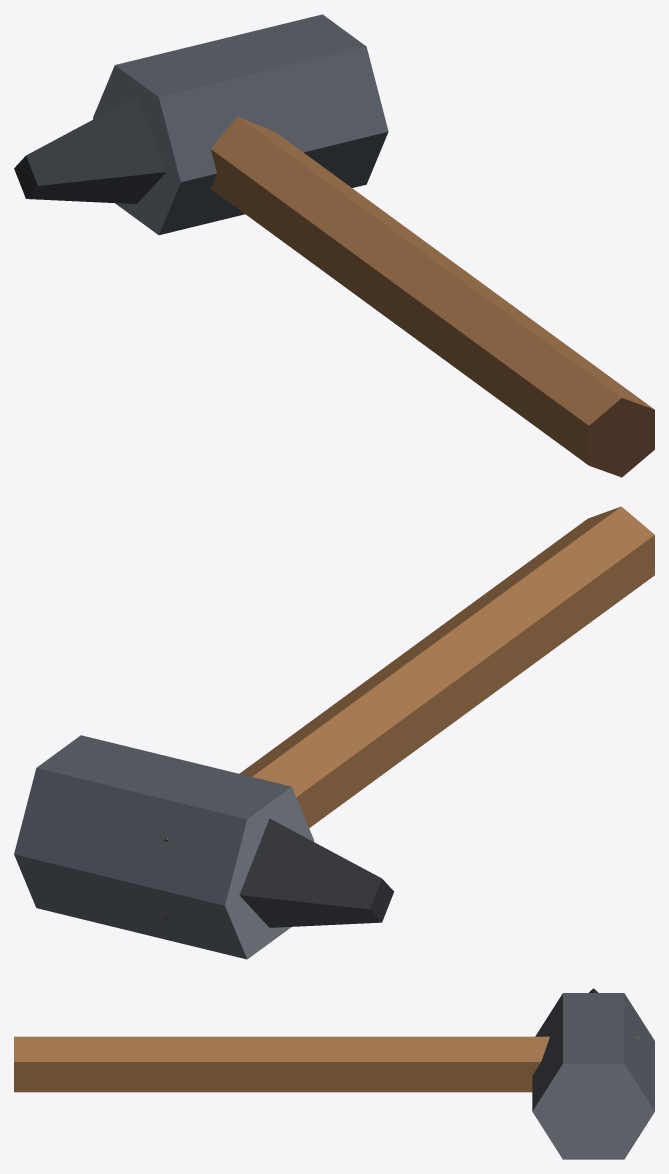
Rendered from prop_hammer.glb.
3 renders of one model, top to bottom at view 1: azimuth 30°, elevation 25°; view 2: azimuth 150°, elevation 25°; view 3: azimuth 270°, elevation 25°, orthographic. The views are drawn at different scales.
Visible parts, largest first — view 1: prop_hammer; view 2: prop_hammer; view 3: prop_hammer.
Part boxes in pixels (x1=…): prop_hammer: x1=14, y1=14, x2=654, y2=477; prop_hammer: x1=14, y1=506, x2=654, y2=959; prop_hammer: x1=14, y1=988, x2=654, y2=1159.
Size of the model in its own units: 0.046 by 0.0191 by 0.115.
Materials: 1 (1 with a texture image).
